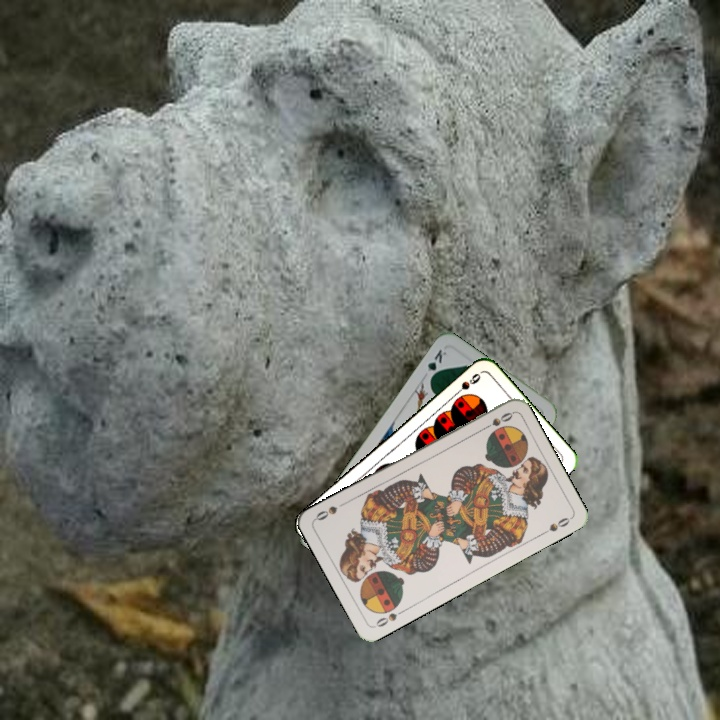GK: (423, 345, 449, 383)
S9: (449, 369, 483, 399)
SO: (478, 408, 516, 433), (371, 605, 408, 630)
